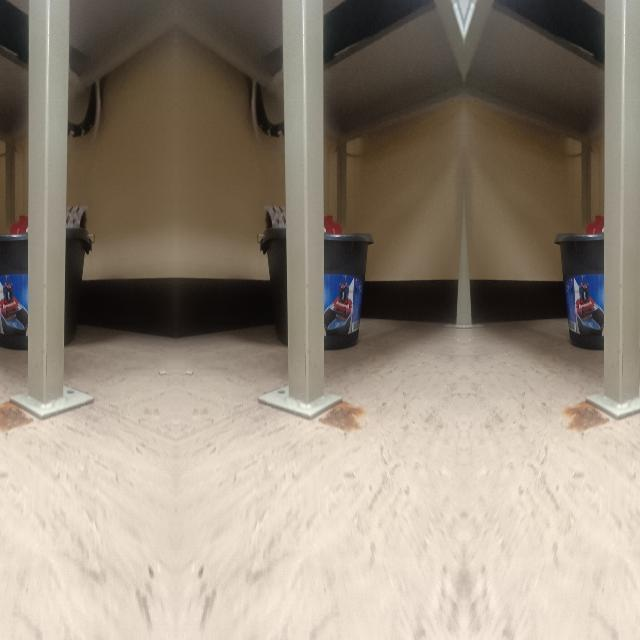obstacle: (260, 237, 344, 418), (6, 237, 90, 418), (583, 236, 640, 417)
